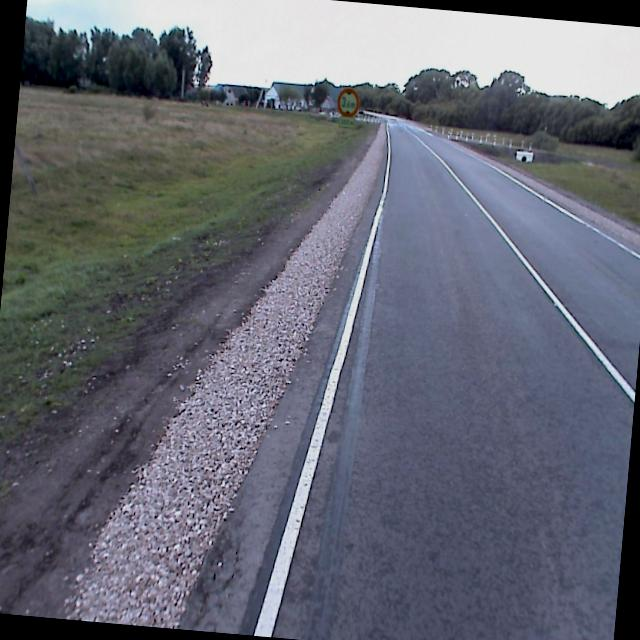road: (178, 118, 640, 640)
